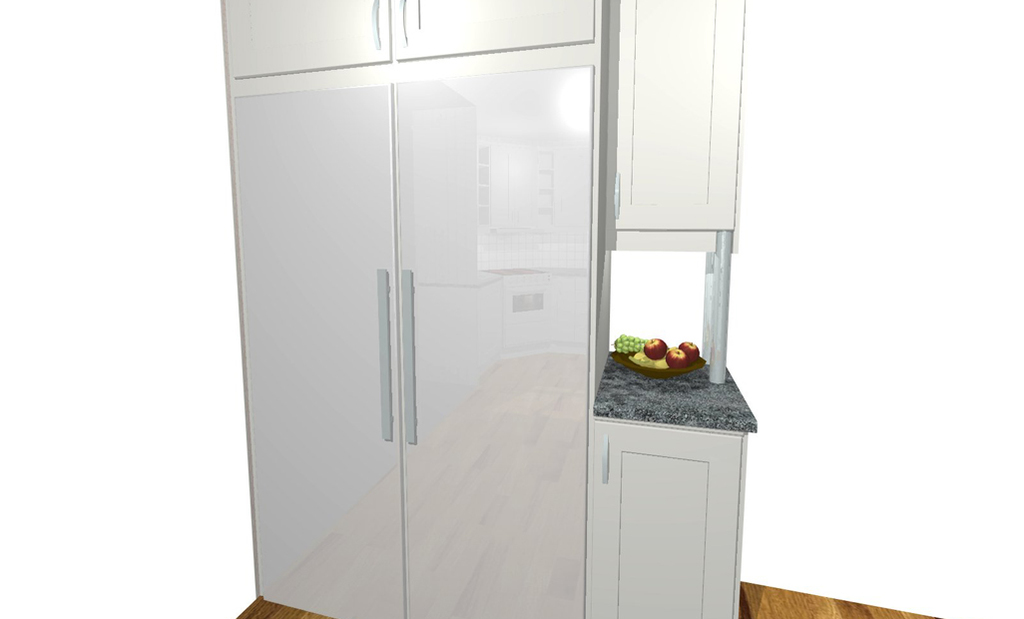cabinet door: (596, 427, 732, 619), (619, 3, 729, 235), (231, 1, 386, 65), (395, 3, 588, 45)
handle: (369, 268, 396, 444), (401, 270, 422, 444), (364, 3, 383, 55), (394, 6, 414, 46), (600, 435, 614, 482)
refrigerator door: (393, 88, 573, 619), (234, 95, 396, 619)
